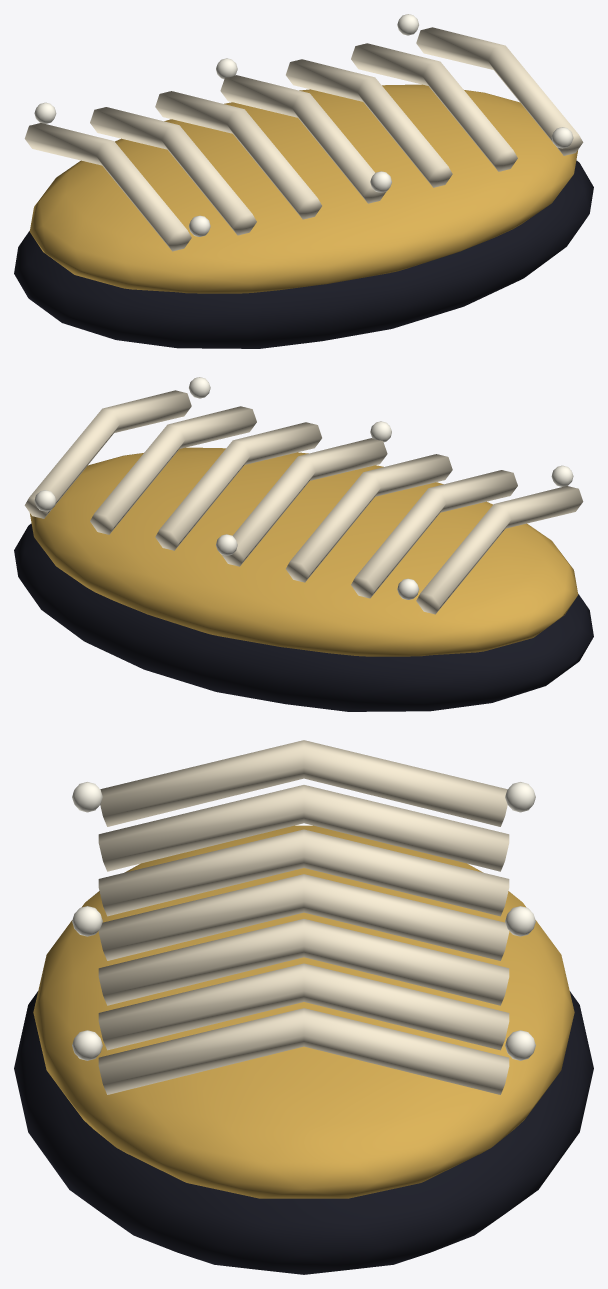
Rendered from prime_epaulette.glb.
3 views of the same model, one above another, from view 1: azimuth 30°, elevation 25°; view 2: azimuth 150°, elevation 25°; view 3: azimuth 270°, elevation 25° (orthographic). The views are drawn at different scales.
Parts seen in each view (by area): view 1: prime_epaulette_metal, prime_epaulette_accent, prime_epaulette_dark, prime_epaulette_light; view 2: prime_epaulette_metal, prime_epaulette_accent, prime_epaulette_dark, prime_epaulette_light; view 3: prime_epaulette_accent, prime_epaulette_metal, prime_epaulette_dark, prime_epaulette_light.
Boxes of the visible parts, x1,y1,x2,y2 form: prime_epaulette_metal: (29,84,577,293); prime_epaulette_accent: (24,27,583,251); prime_epaulette_dark: (14,160,593,348); prime_epaulette_light: (34,14,573,236); prime_epaulette_metal: (30,447,578,656); prime_epaulette_accent: (24,390,583,614); prime_epaulette_dark: (14,523,593,711); prime_epaulette_light: (34,377,573,599); prime_epaulette_accent: (98,740,509,1094); prime_epaulette_metal: (33,825,574,1198); prime_epaulette_dark: (14,991,593,1274); prime_epaulette_light: (72,782,535,1060).
Bounding box in the file's own units: 0.114 × 0.0402 × 0.075.
